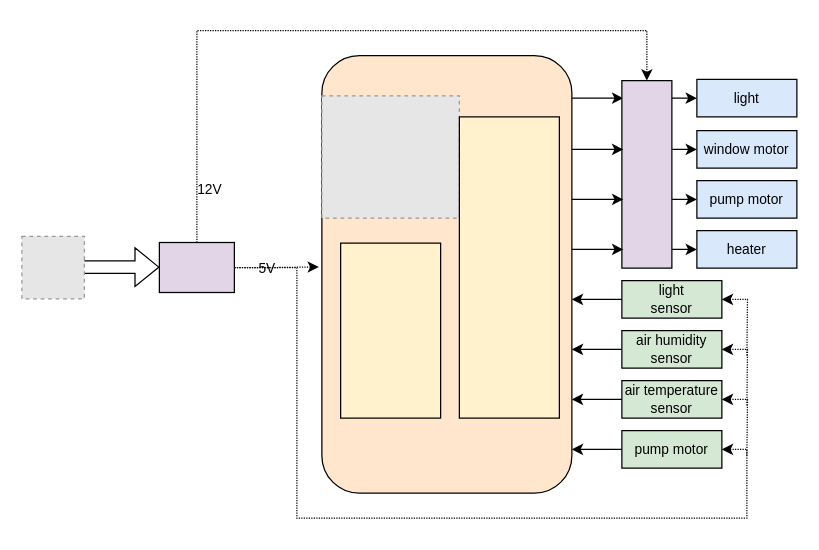
The diagram is 819 pixels wide and 550 high, and some of its shapes have lost their labels. Grey dashed boxes stand in for pictures. The centre of each missing label's shape, as x and y in pixels:
"AC-DC converter" belongs at point 196,266.
"ARM Cortex-A72" belongs at point 390,330.
"GPIO" belongs at point 508,267.
"H bridge" belongs at point 646,173.
